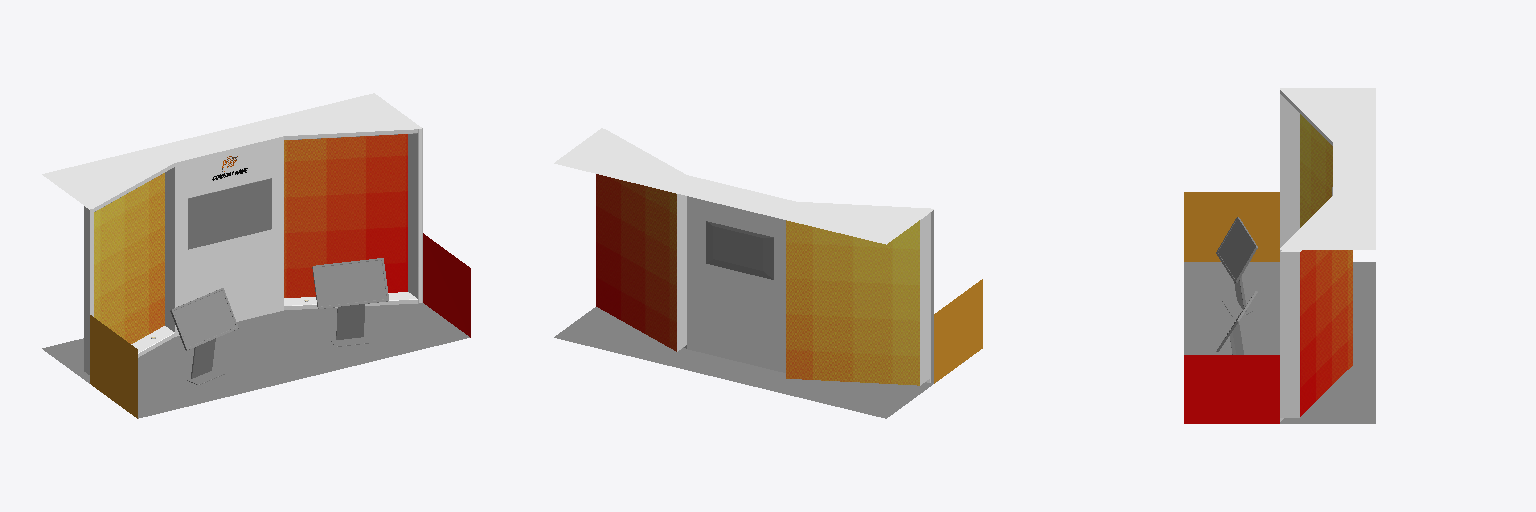
3 renders of one model, left to right at view 1: azimuth 30°, elevation 25°; view 2: azimuth 150°, elevation 25°; view 3: azimuth 270°, elevation 25°, orthographic.
Parts seen in each view (by area): view 1: ClassicBooth, DigitalTVStand1, Monitor_65Inch002, DigitalTVStand002; view 2: ClassicBooth, Monitor_65Inch002; view 3: ClassicBooth, DigitalTVStand002.
Part boxes in pixels (x1,y1,x2,y2): ClassicBooth: (42,93,470,418); DigitalTVStand1: (312,258,388,346); Monitor_65Inch002: (188,178,271,249); DigitalTVStand002: (170,288,238,384); ClassicBooth: (554,128,982,418); Monitor_65Inch002: (706,221,773,279); ClassicBooth: (1184,88,1375,423); DigitalTVStand002: (1216,217,1257,316).
Bounding box in the file's own units: 240 × 120 × 120.
Materials: 6 (3 with a texture image).